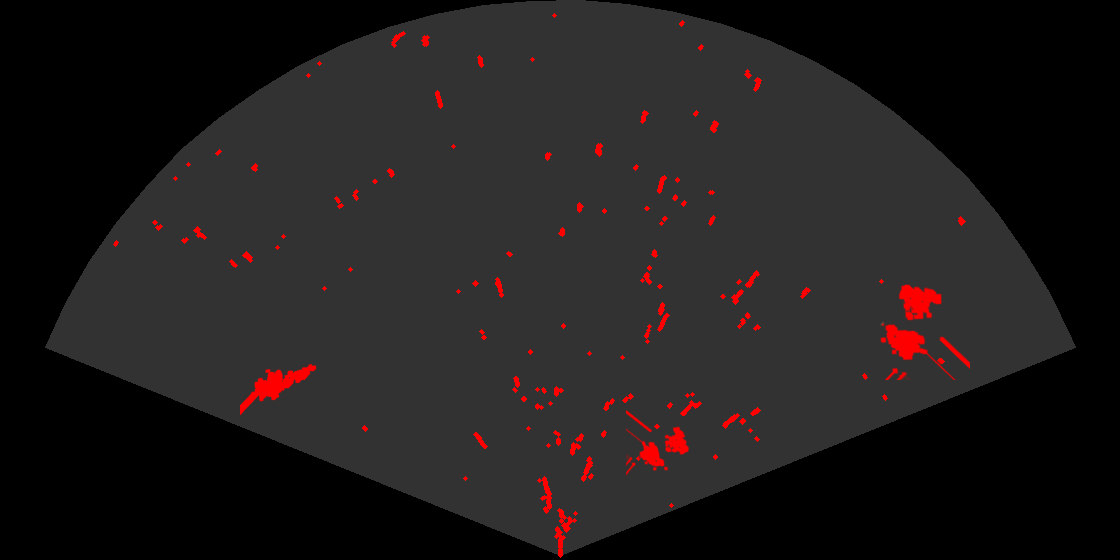cage: (879, 283, 970, 380), (626, 409, 691, 477)
frogman: (240, 362, 318, 417)
